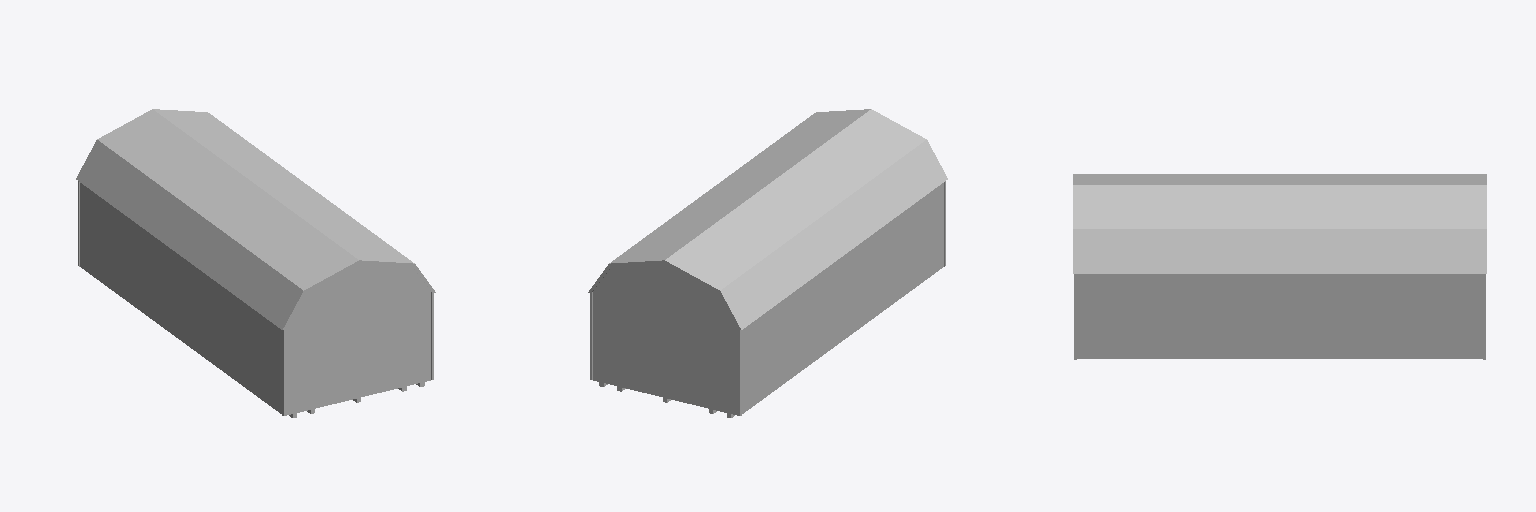
Rendered from Dutch Barn_12x28.obj.
3 renders of one model, left to right at view 1: azimuth 30°, elevation 25°; view 2: azimuth 150°, elevation 25°; view 3: azimuth 270°, elevation 25°, orthographic.
Visible parts, largest first — view 1: Dutch Barn_12x28.obj; view 2: Dutch Barn_12x28.obj; view 3: Dutch Barn_12x28.obj.
Boxes of the visible parts, <box> form: Dutch Barn_12x28.obj: <box>76,109,435,417</box>; Dutch Barn_12x28.obj: <box>588,109,947,417</box>; Dutch Barn_12x28.obj: <box>1073,174,1486,359</box>.
Size of the model in its own units: 3.69 by 3.27 by 8.59.